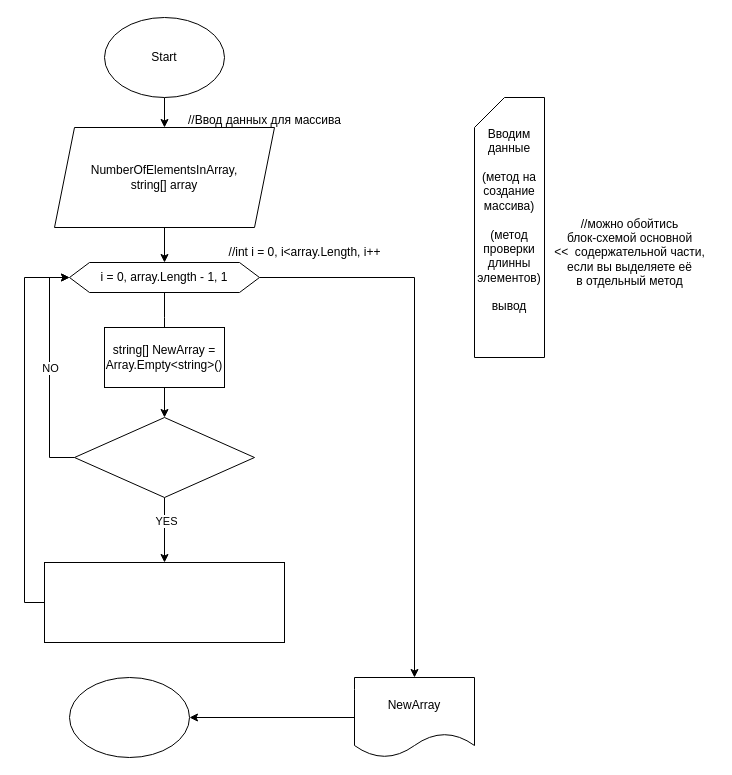
Some shapes in this 732 by 775 pixel diagram are drawn without their labels. Here are the shapes that lost their labels. From the top down, the box of each, then its label:
(74, 416, 254, 498): array[i].Length <= 3
(44, 562, 284, 642): Array.Resize(ref NewArray, NewArray.Length + 1), NewArray[^1] = array[i]
(68, 676, 190, 758): Finish
